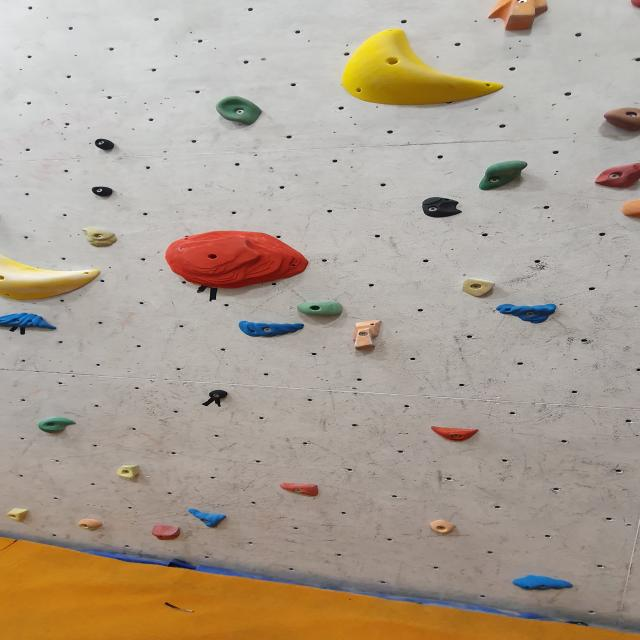Crimp: (162, 232, 312, 290), (0, 311, 65, 333), (495, 305, 560, 323), (235, 320, 308, 336), (511, 576, 576, 593), (80, 228, 120, 250), (428, 426, 483, 441), (185, 511, 228, 528), (463, 279, 499, 298), (275, 483, 322, 496), (427, 519, 461, 536), (117, 462, 145, 480), (75, 518, 104, 532), (5, 506, 32, 521)
Jug: (475, 160, 530, 192), (214, 95, 266, 126), (590, 165, 639, 190), (600, 106, 640, 132), (296, 302, 346, 320), (35, 418, 78, 436)
Pinch: (484, 0, 552, 30), (350, 318, 380, 351), (91, 136, 128, 153), (87, 186, 119, 198), (205, 389, 232, 402)
Sloper: (340, 28, 508, 108), (0, 242, 102, 303), (414, 197, 472, 219), (150, 524, 184, 540), (619, 199, 640, 221)
